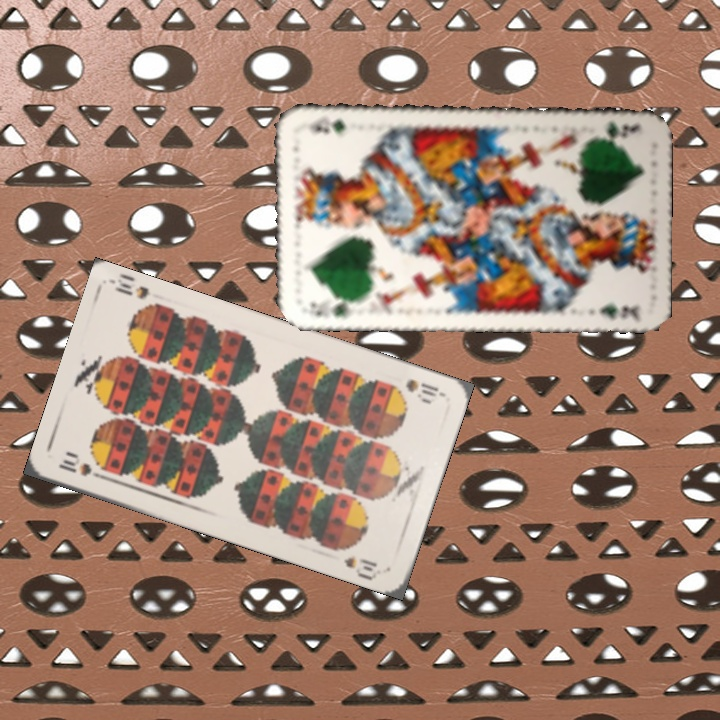GK: (306, 295, 355, 322), (602, 116, 645, 139)
S10: (54, 450, 110, 483), (401, 375, 444, 405)
